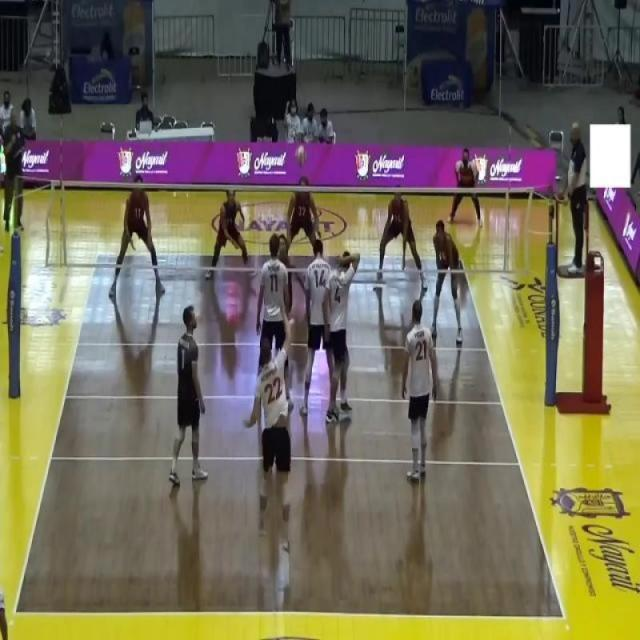volleyball: (296, 144, 306, 167)
